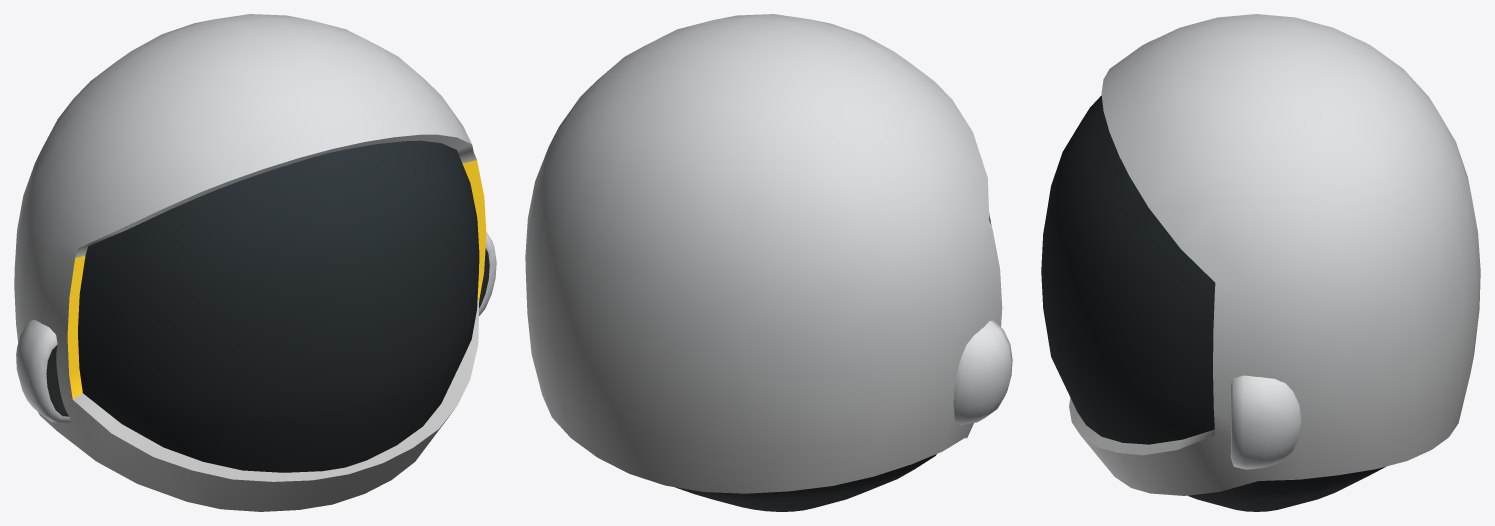
File: Costume_3_02.glb
3 renders of one model, left to right at view 1: azimuth 30°, elevation 25°; view 2: azimuth 150°, elevation 25°; view 3: azimuth 270°, elevation 25°, orthographic.
Parts seen in each view (by area): view 1: Costume_3_02; view 2: Costume_3_02; view 3: Costume_3_02.
Boxes of the visible parts, x1,y1,x2,y2 form: Costume_3_02: (14, 14, 496, 511); Costume_3_02: (525, 14, 1012, 511); Costume_3_02: (1041, 14, 1480, 511).
Bounding box in the file's own units: 0.6692 × 0.6115 × 0.5458.
2 materials, 2 textured.
